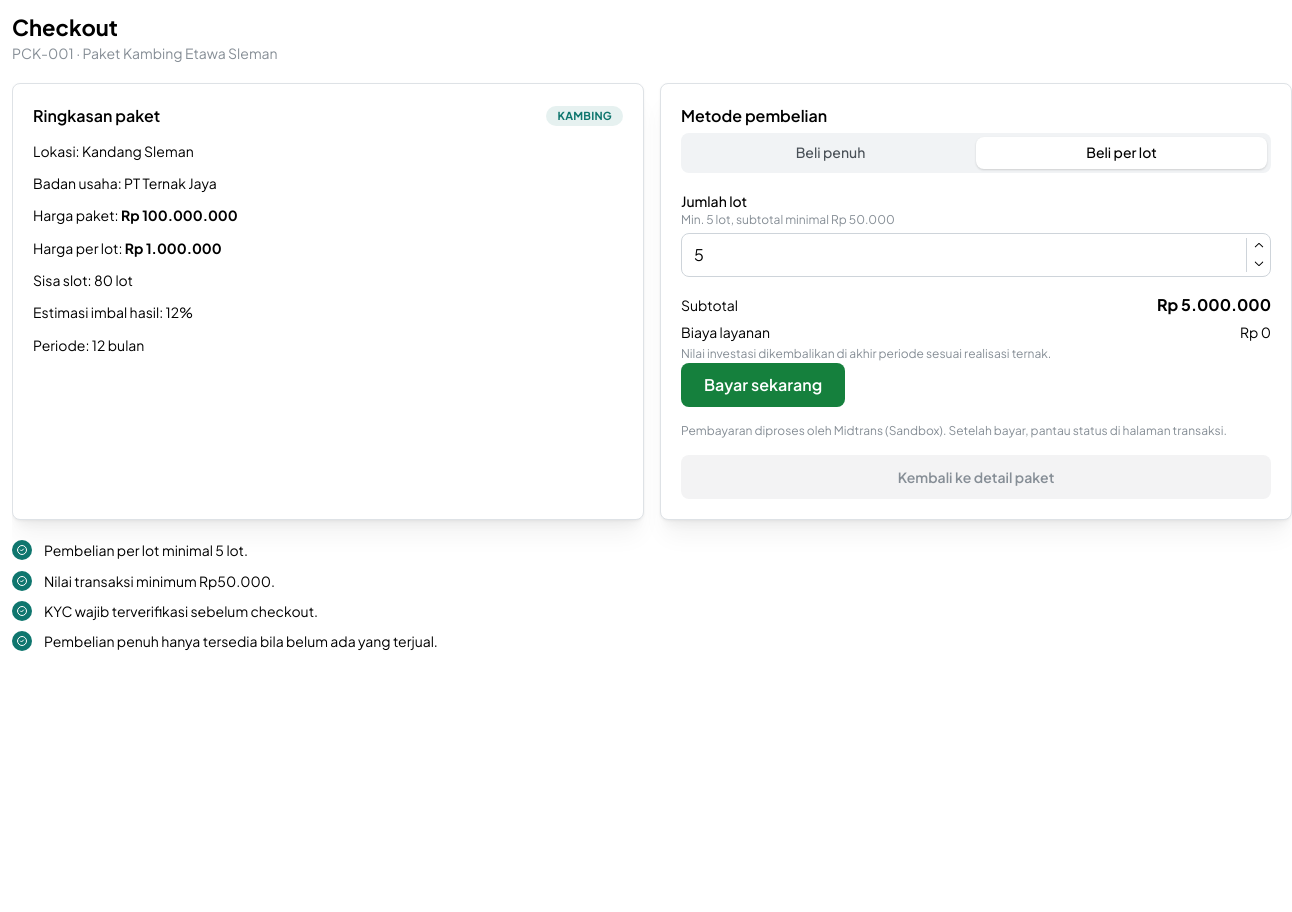
Test: Checkout Page › rejects lot count below 5 and disables payment
expect the button "Bayar sekarang" is shown: met, box [681, 363, 845, 407]
Clear the field labelled "Jumlah lot" at (976, 255), box [681, 233, 1271, 277]
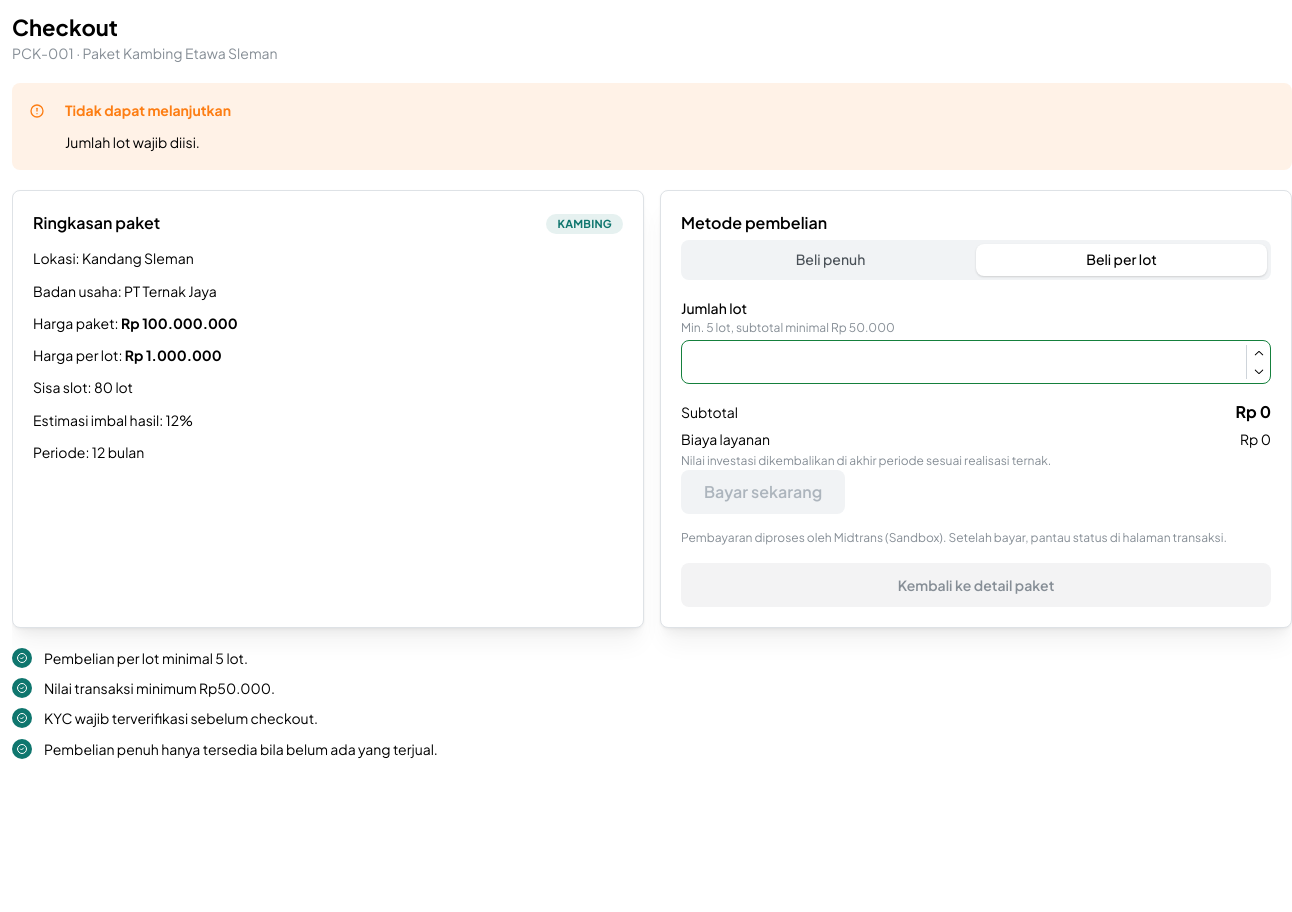
Type "3" into the field labelled "Jumlah lot" at (976, 362), box [681, 340, 1271, 384]
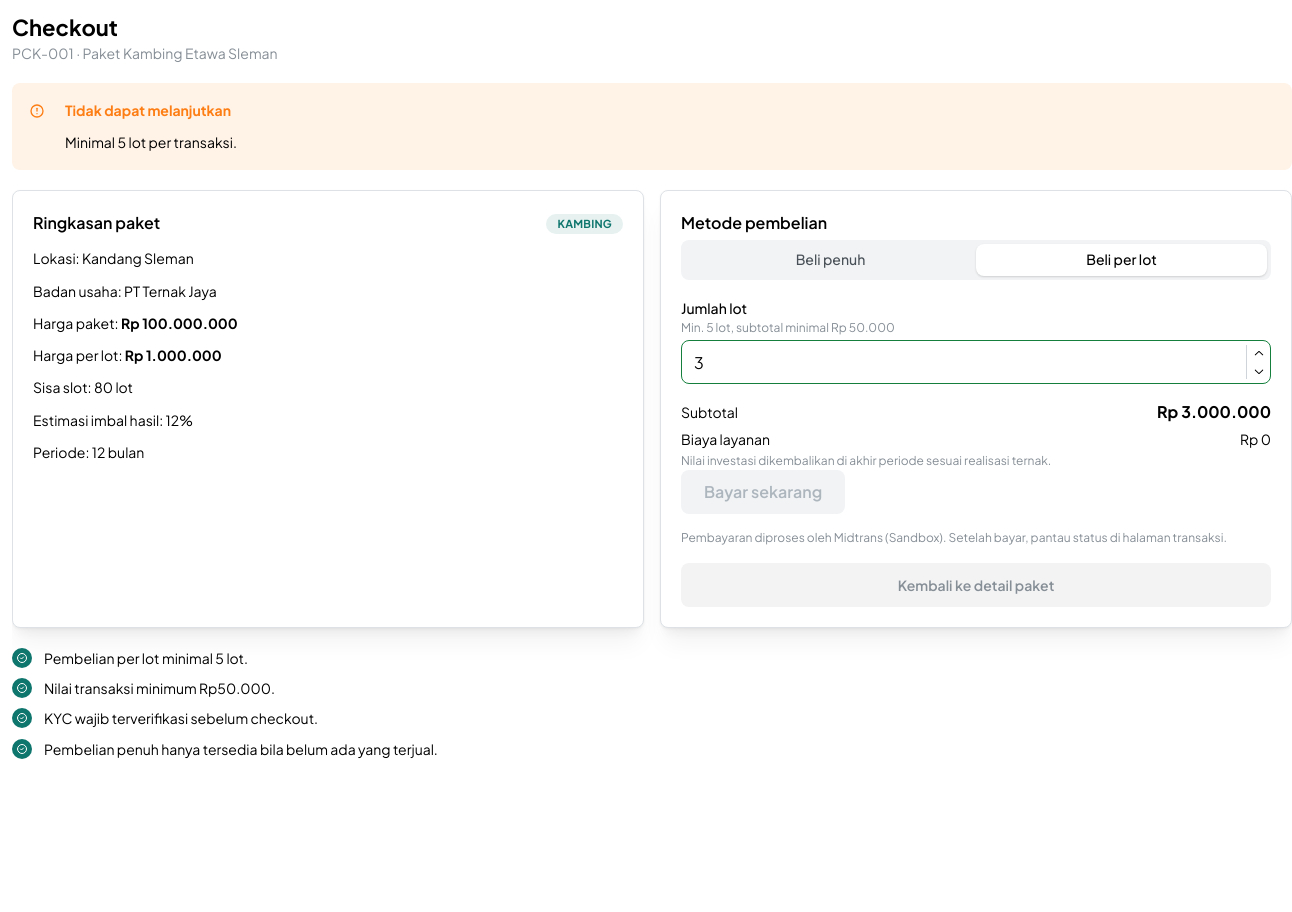
expect the button "Bayar sekarang" is disabled: met, box [681, 470, 845, 514]
expect the text "Minimal 5 lot per transaksi." is shown: met, box [65, 132, 237, 154]
